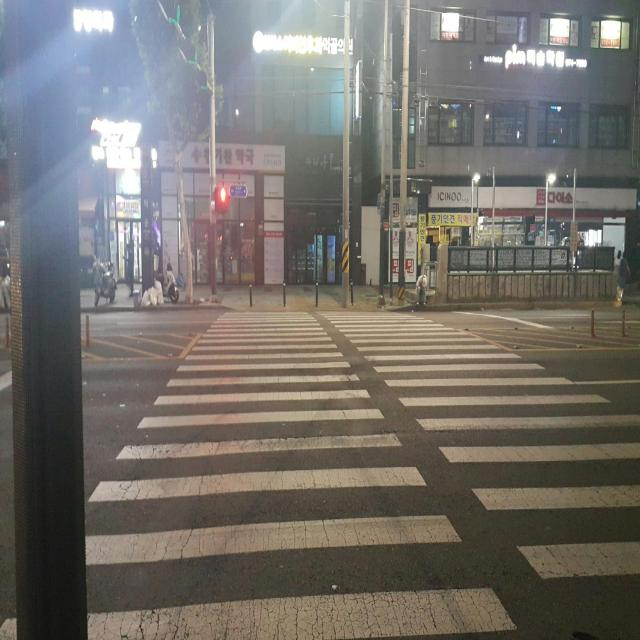빨간불: (217, 185, 230, 217)
횡단보도: (0, 310, 640, 640)
